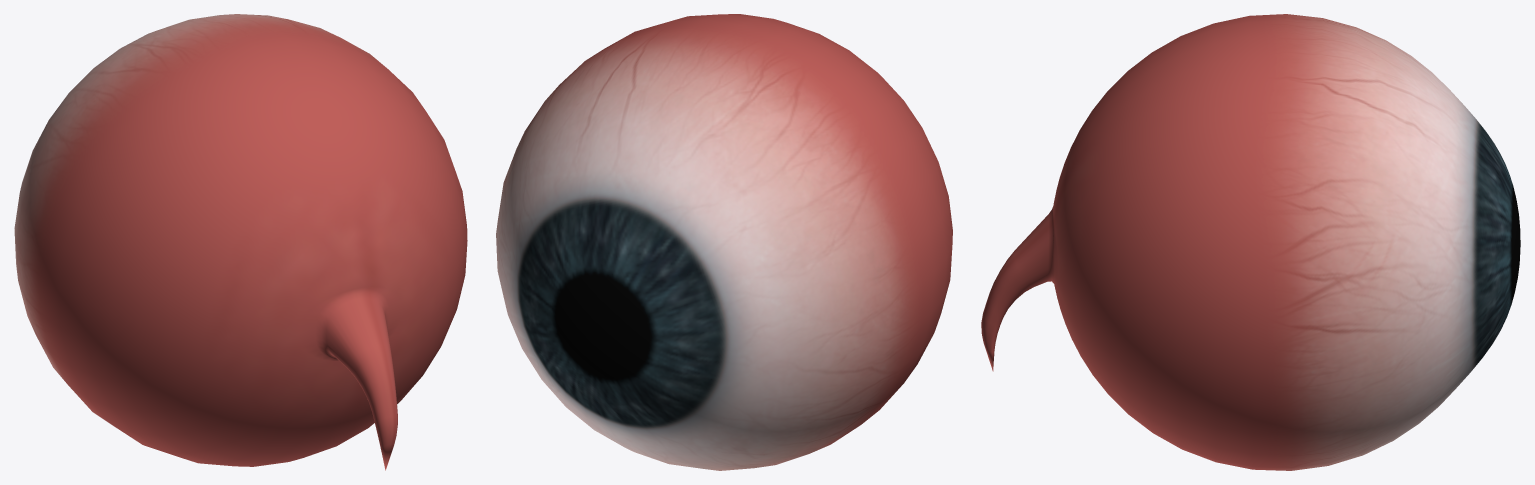
Rendered from eye.glb.
3 renders of one model, left to right at view 1: azimuth 30°, elevation 25°; view 2: azimuth 150°, elevation 25°; view 3: azimuth 270°, elevation 25°, orthographic.
Visible parts, largest first — view 1: eye; view 2: eye; view 3: eye.
Part boxes in pixels (x1,y1,x2,y2): eye: [14, 14, 467, 470]; eye: [496, 14, 952, 470]; eye: [981, 14, 1520, 470].
Size of the model in its own units: 1.01 by 1.01 by 1.19.
Materials: 2 (1 with a texture image).
